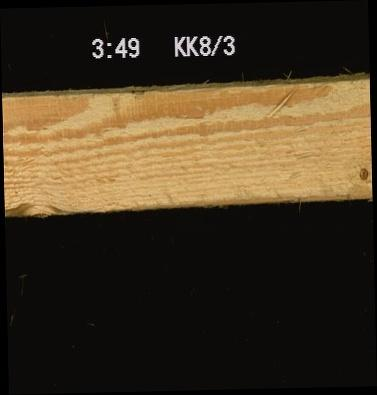dry_knot: (356, 164, 370, 181)
wave: (196, 193, 372, 206)
